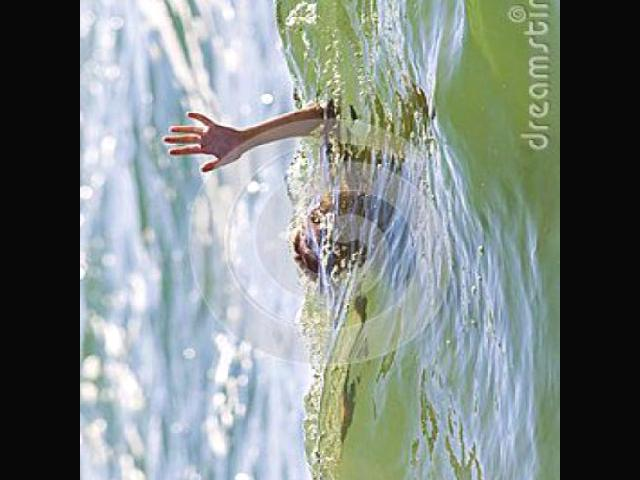drowning: (164, 73, 396, 296)
